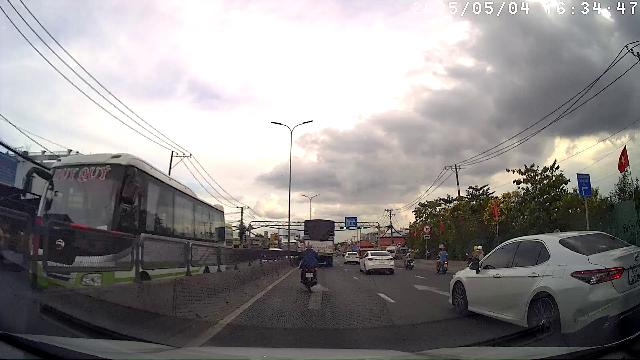123b-cam-re-phai: (422, 224, 432, 233)
